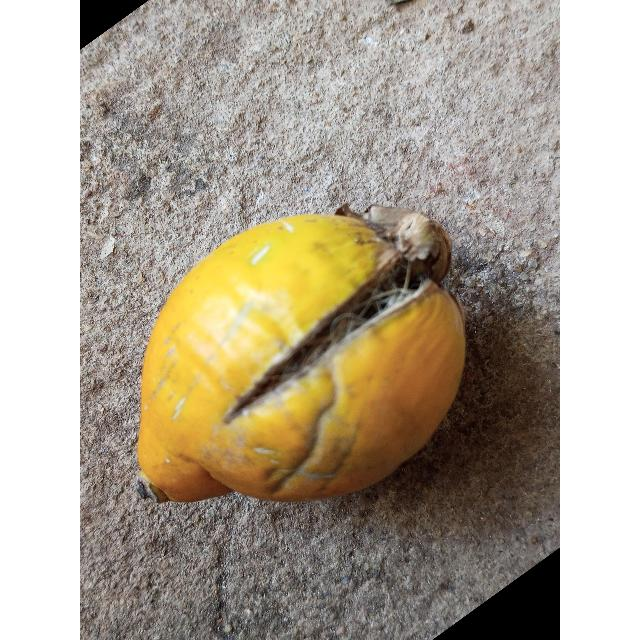damaged: (137, 210, 467, 505)
